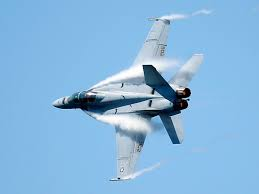fighter: (49, 14, 207, 184)
